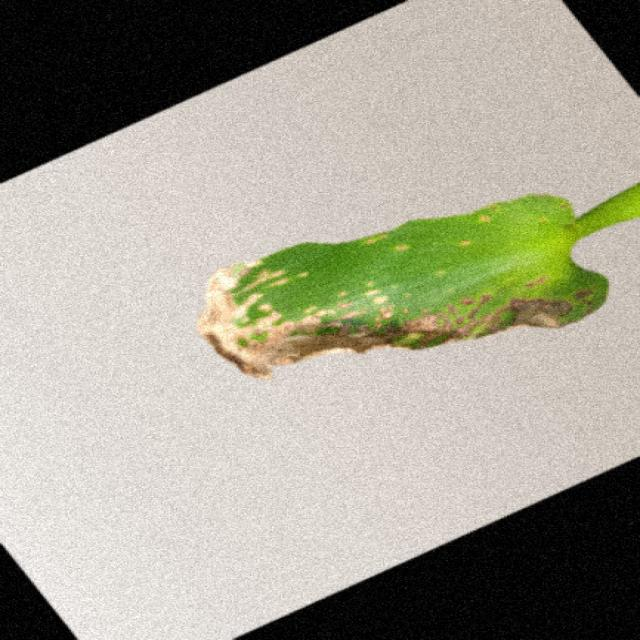daun berpenyakit bercak: (198, 186, 638, 378)
